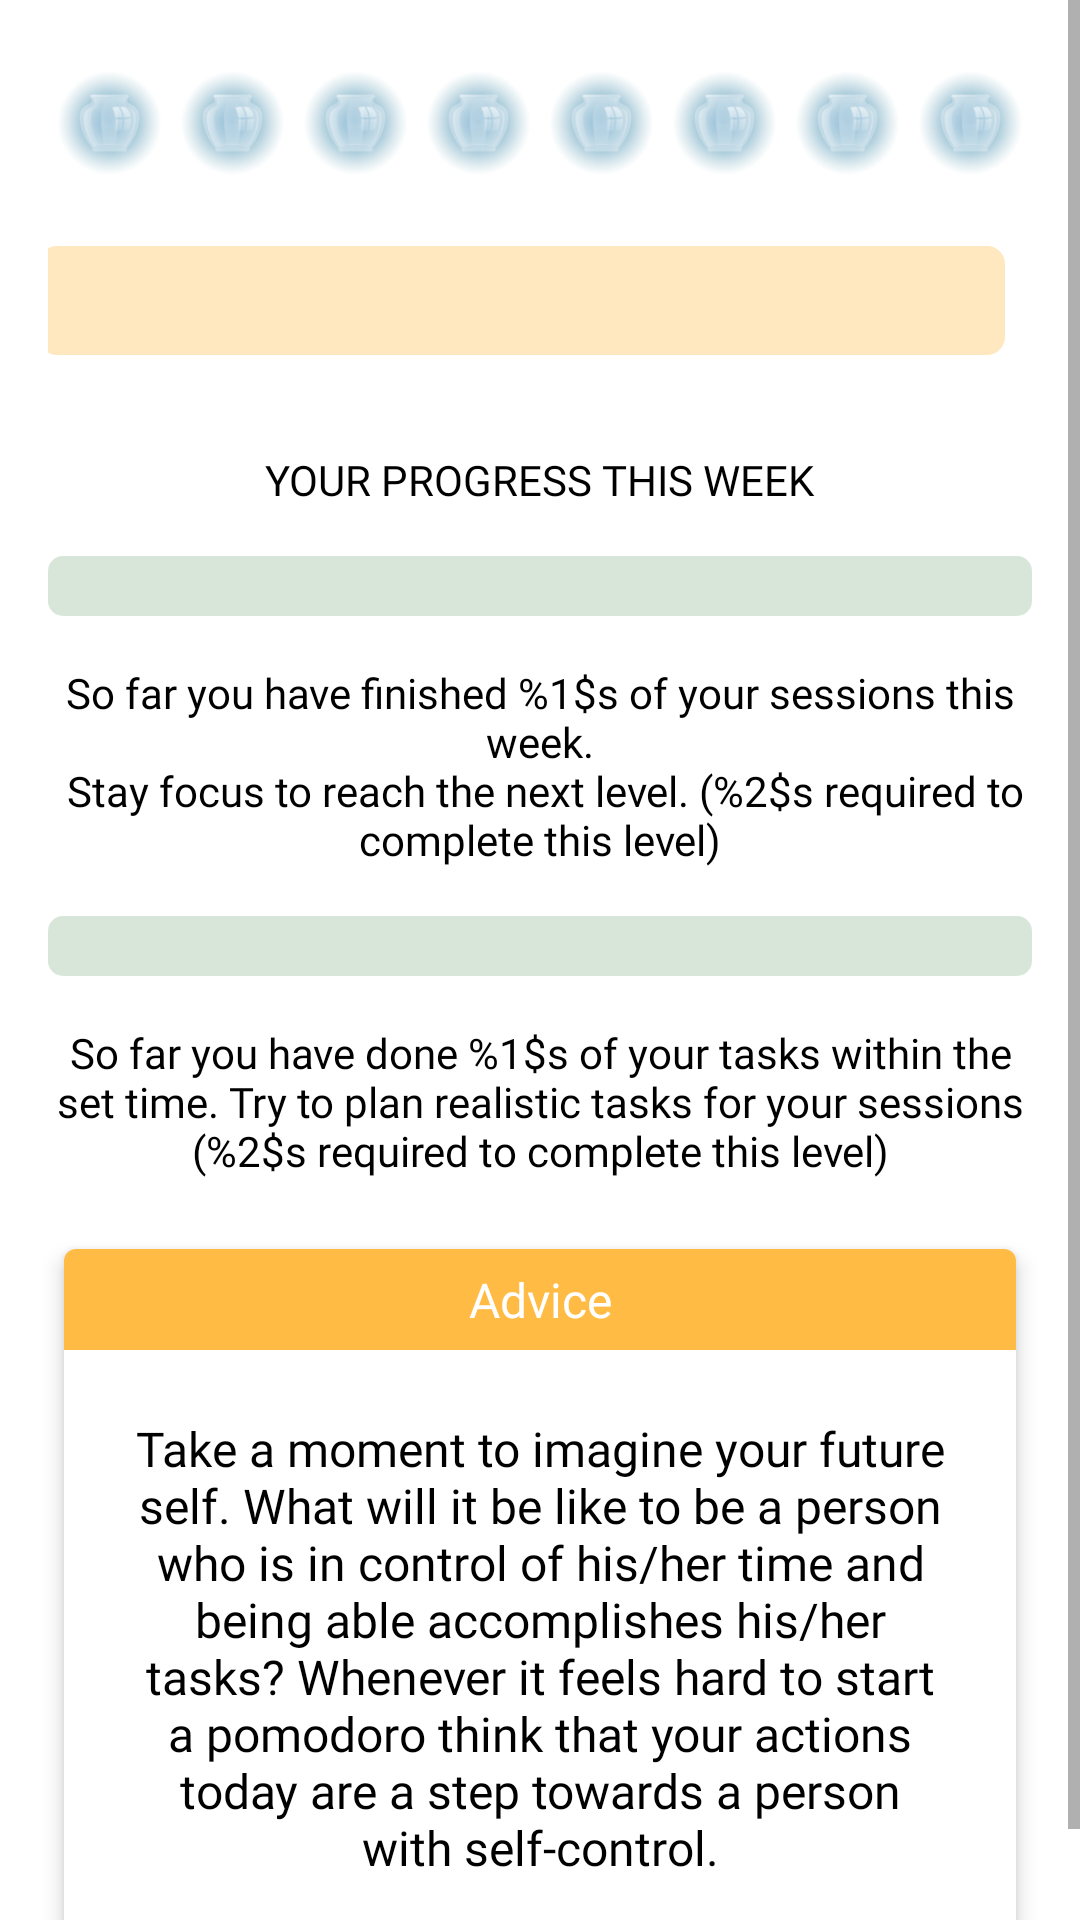

Screen size 1080x1920. Icon name, then its box in pixels as (left=x1, top=y1, right=x2, bottom=y2):
empty pot: (left=65, top=79, right=154, bottom=167), (left=188, top=79, right=277, bottom=167), (left=311, top=79, right=400, bottom=167), (left=434, top=79, right=523, bottom=167), (left=557, top=79, right=646, bottom=167), (left=680, top=79, right=769, bottom=167), (left=803, top=79, right=892, bottom=167), (left=926, top=79, right=1015, bottom=167)
